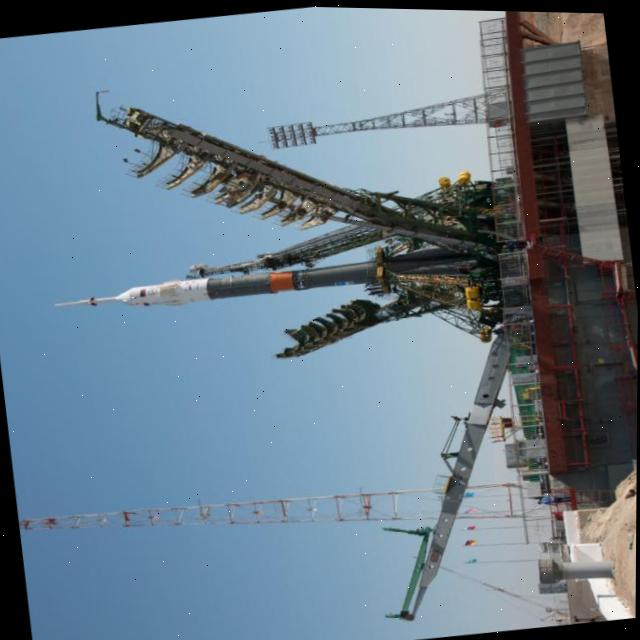missile: (44, 219, 495, 334)
